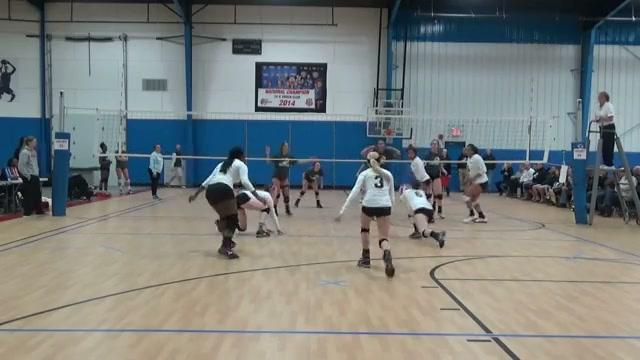ball: (399, 182, 415, 197)
